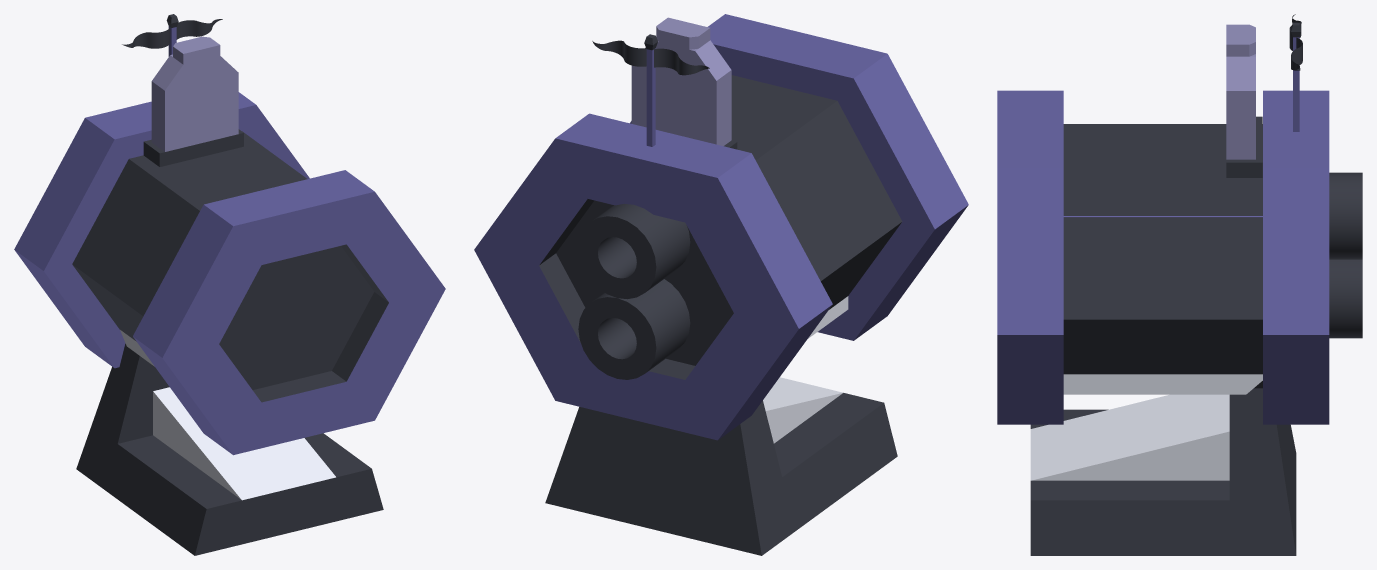
File: turret.glb
3 views of the same model, side by side, from view 1: azimuth 30°, elevation 25°; view 2: azimuth 150°, elevation 25°; view 3: azimuth 270°, elevation 25° (orthographic). The views are drawn at different scales.
Visible parts, largest first — view 1: Untitled-1, chimney_baseClosed, flag_triangle (×2); view 2: Untitled-1, chimney_baseClosed, flag_triangle (×2); view 3: Untitled-1, chimney_baseClosed, flag_triangle.
Part boxes in pixels (x1=…): Untitled-1: x1=14, y1=92, x2=445, y2=555; chimney_baseClosed: x1=143, y1=36, x2=243, y2=166; flag_triangle (×2): x1=122, y1=14, x2=222, y2=56; Untitled-1: x1=474, y1=14, x2=968, y2=555; chimney_baseClosed: x1=631, y1=17, x2=737, y2=149; flag_triangle (×2): x1=592, y1=34, x2=709, y2=146; Untitled-1: x1=997, y1=90, x2=1362, y2=555; chimney_baseClosed: x1=1226, y1=24, x2=1262, y2=177; flag_triangle: x1=1291, y1=22, x2=1302, y2=131.
Size of the model in its own units: 2.76 by 4 by 2.75.
